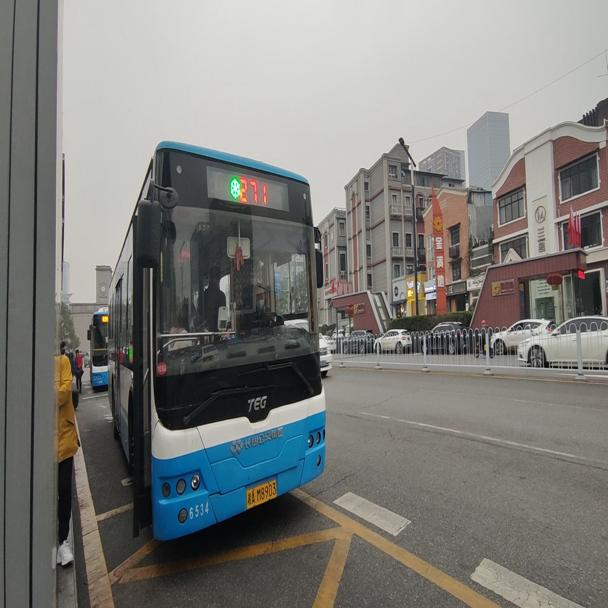bus: (106, 137, 327, 544)
screen: (238, 168, 273, 203)
